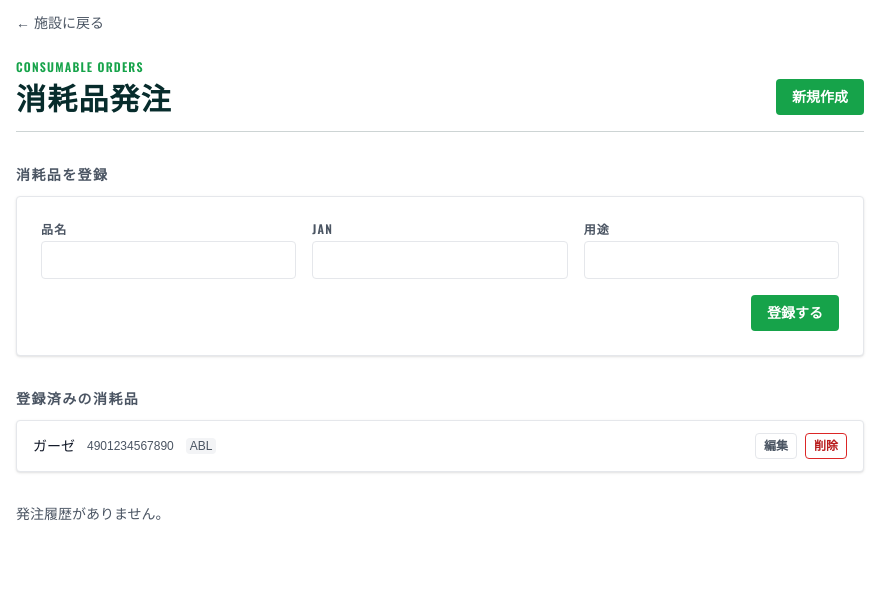
ConsumableOrdersPage › 登録に成功すると一覧が再取得され、新規登録分が反映される(AC2)
The image size is (881, 589).
expect the text "ガーゼ" is shown: met, box [33,436,75,456]
Type "新規消耗品" into the field labelled "品名".
click(169, 260); type("新規消耗品")  # box [41,241,296,279]
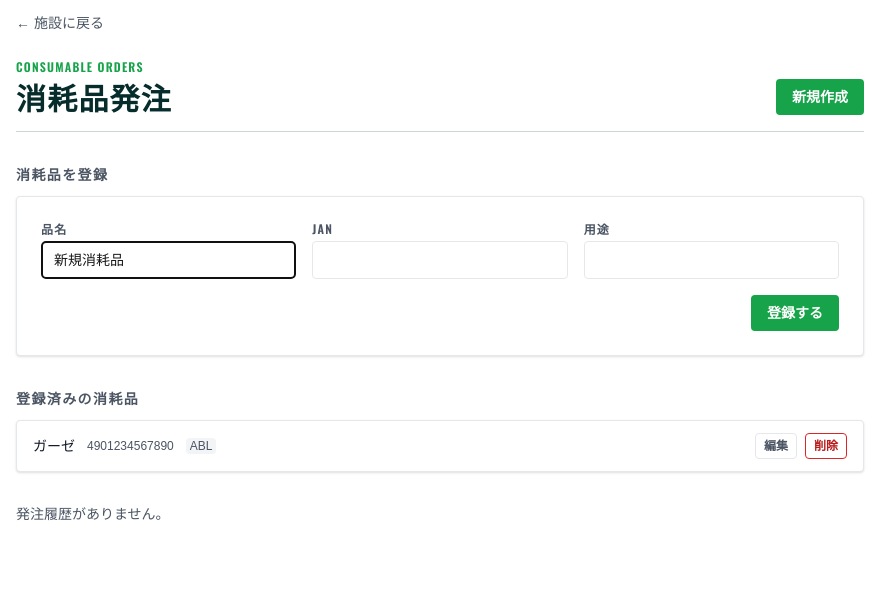
Type "PCI" into the field labelled "用途".
click(711, 260); type("PCI")  # box [584,241,839,279]
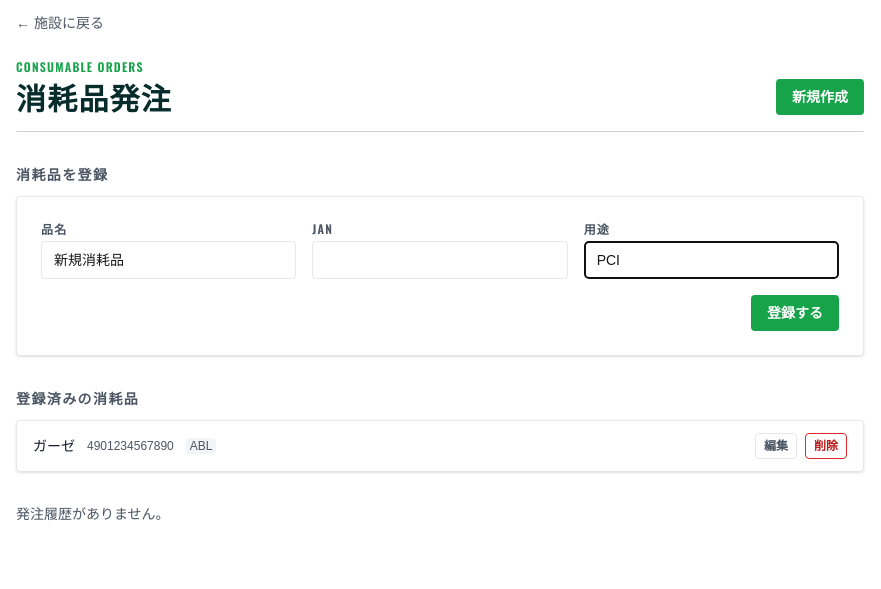
Click the button "登録する".
click(795, 313)  # box [751,295,839,331]
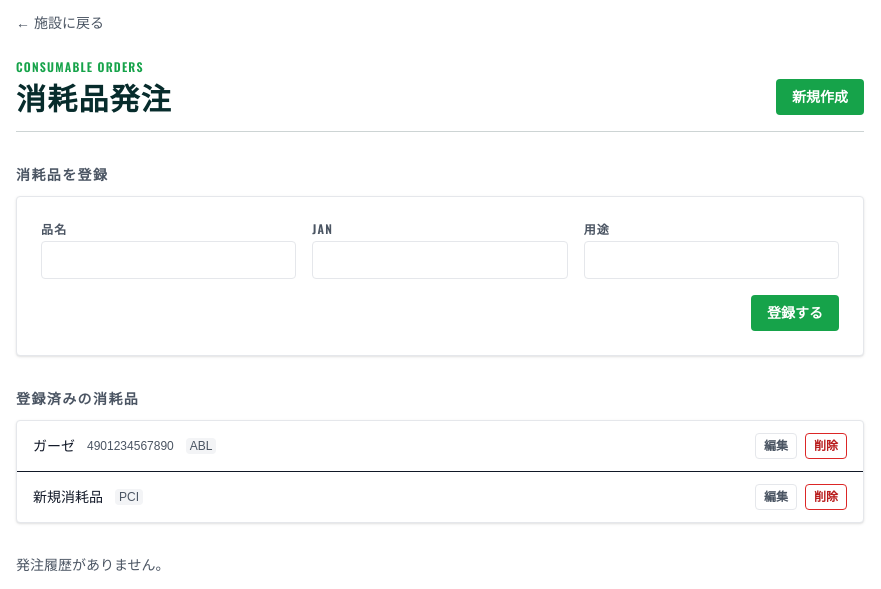
expect the text "新規消耗品" is shown: met, box [33,487,103,507]
